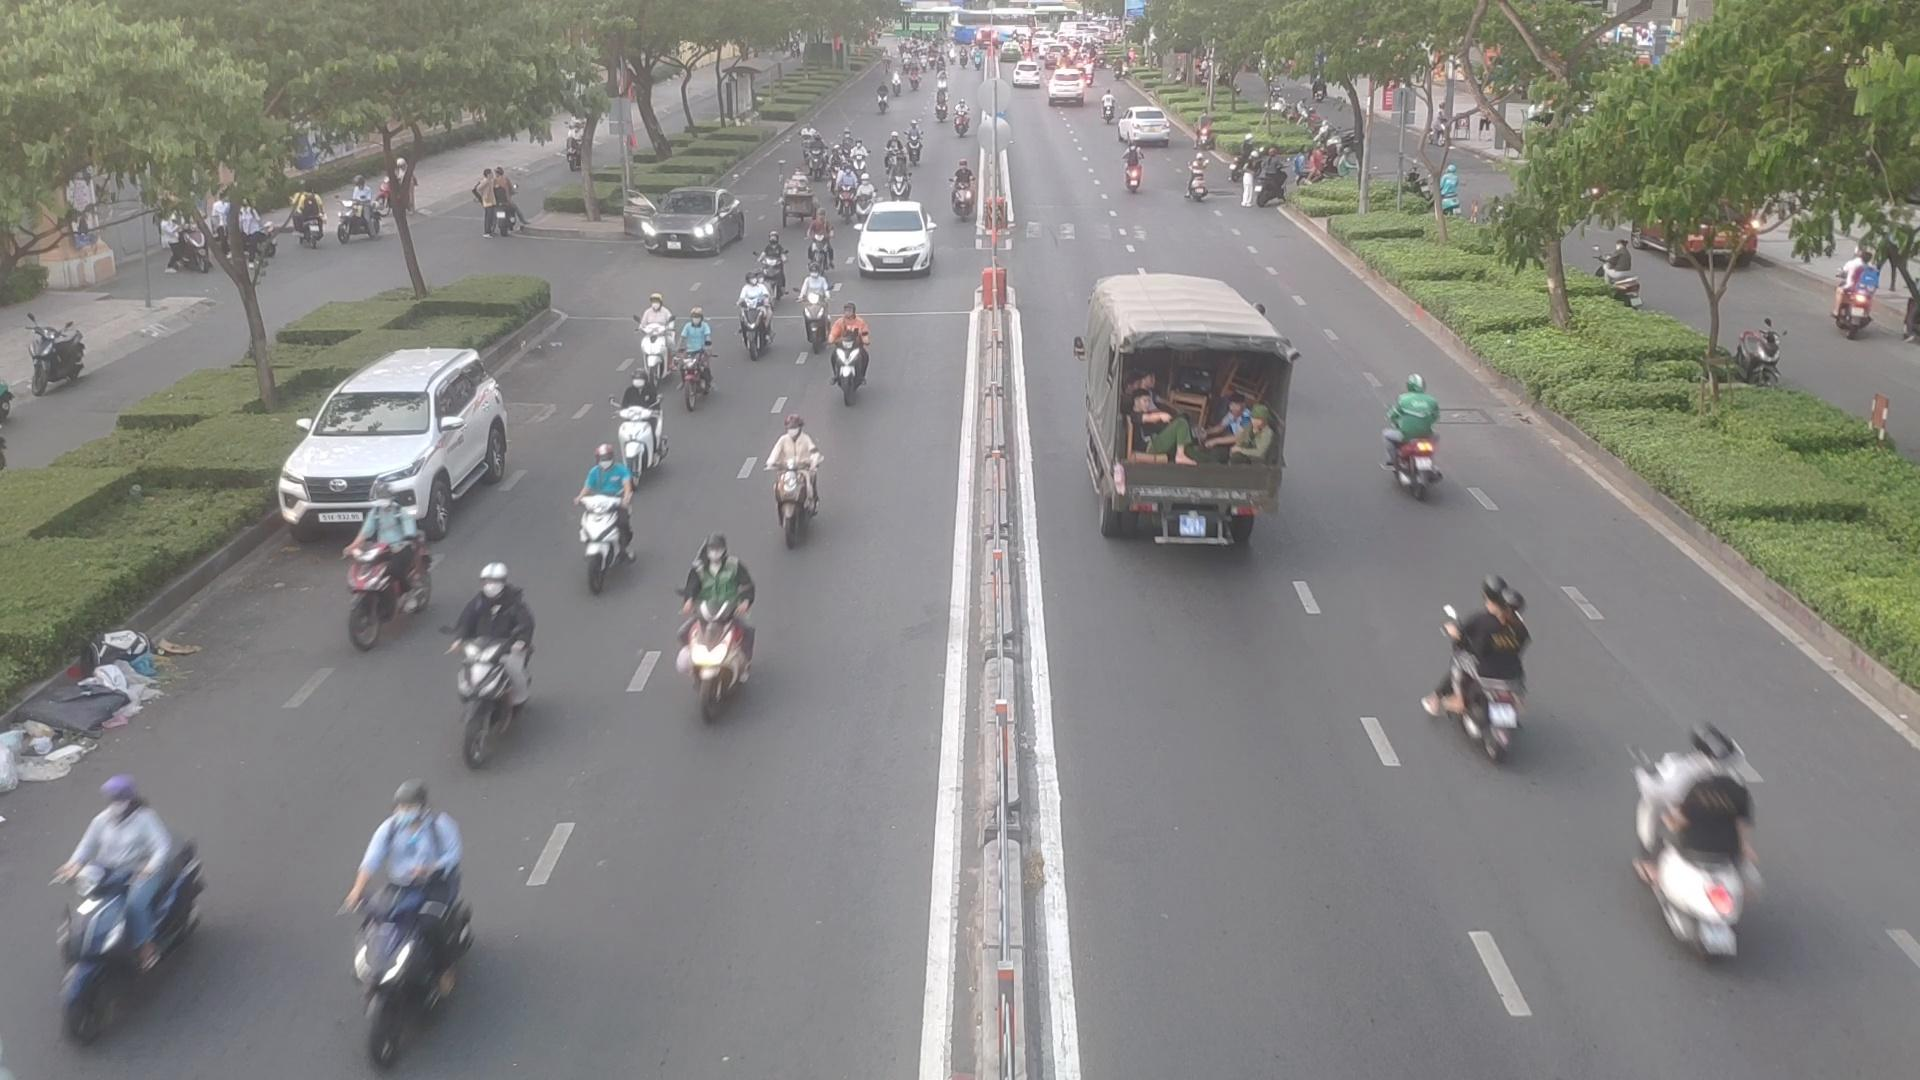car: (1071, 261, 1305, 570), (291, 334, 498, 531), (634, 191, 749, 261), (851, 202, 932, 278)
motorbike: (343, 786, 485, 1054), (53, 767, 193, 1030), (1631, 694, 1756, 960), (1433, 556, 1535, 740), (456, 549, 533, 770), (1373, 368, 1458, 524), (345, 487, 421, 654), (752, 413, 827, 574), (690, 553, 746, 698), (585, 433, 636, 593), (616, 367, 659, 479), (678, 311, 723, 407), (634, 287, 674, 386), (837, 306, 878, 388), (733, 270, 764, 352), (795, 270, 824, 345), (752, 233, 785, 290), (808, 208, 829, 264), (886, 160, 910, 208), (953, 160, 971, 222), (836, 165, 855, 222), (1192, 152, 1209, 199), (858, 179, 877, 223), (905, 120, 922, 164), (798, 115, 814, 160), (882, 131, 898, 174), (1121, 141, 1135, 187), (828, 142, 841, 191), (808, 137, 822, 178), (853, 140, 868, 171)
